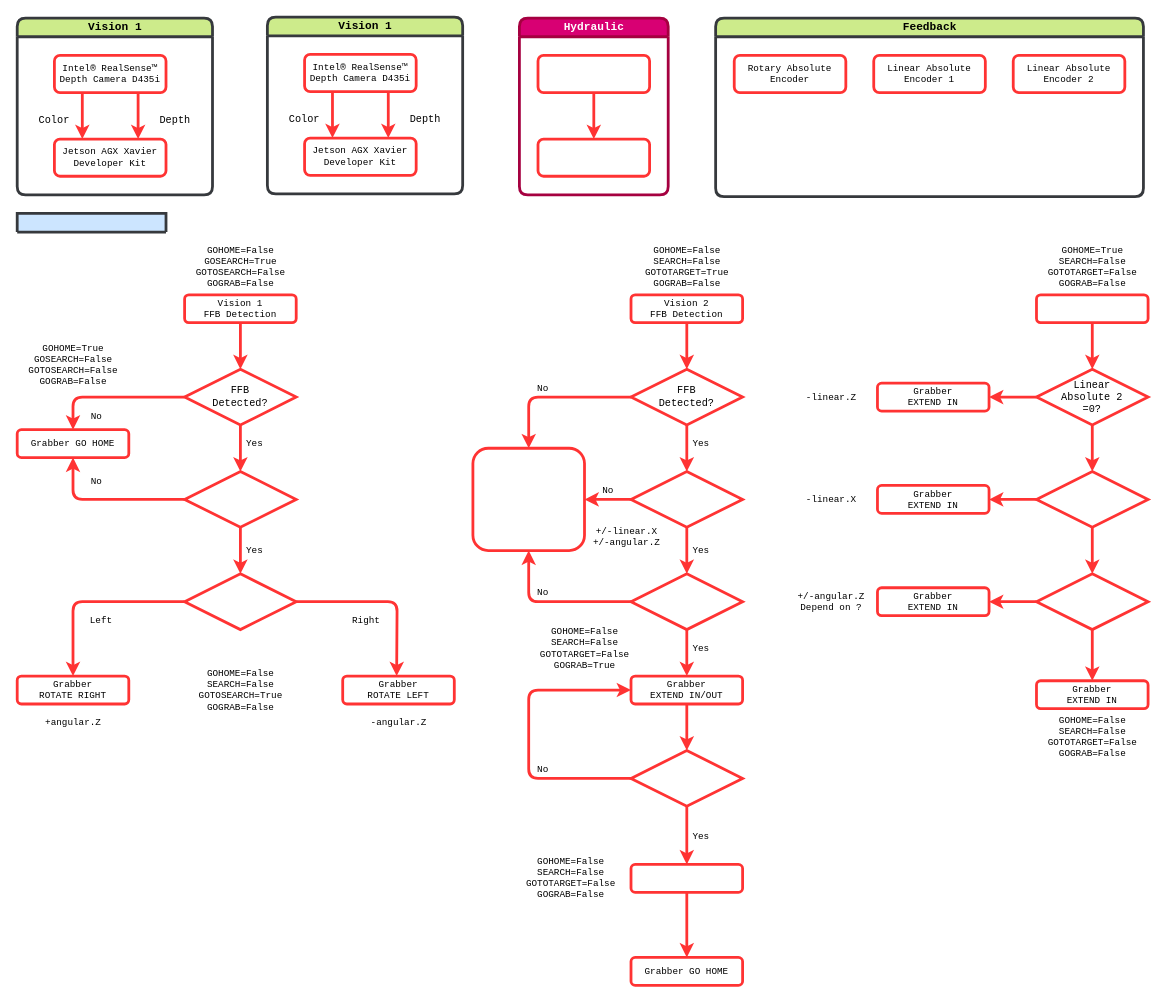
Image size: 1165x1003. Some labels were removed from this diagram. The centre of each missing label's shape, as x and y in pixels:
Center of Height: point (686, 601)
Center of Width: point (686, 499)
Electronic Controller: point (593, 157)
GRABBED!: point (686, 878)
Grabber NOT HOME: point (1092, 308)
Grabber ROTATE RIGHT/LEFT Grabber EXTEND IN/OUT: point (528, 498)
Intel® NUC Mini PC: point (91, 222)
Left or Right?: point (240, 601)
Linear Absolute 1 =0?: point (1092, 499)
Reach FFB?: point (686, 778)
Reachable Distance?: point (240, 499)
Rotary Absolute =0?: point (1092, 601)
TestBox TB3: point (593, 73)
